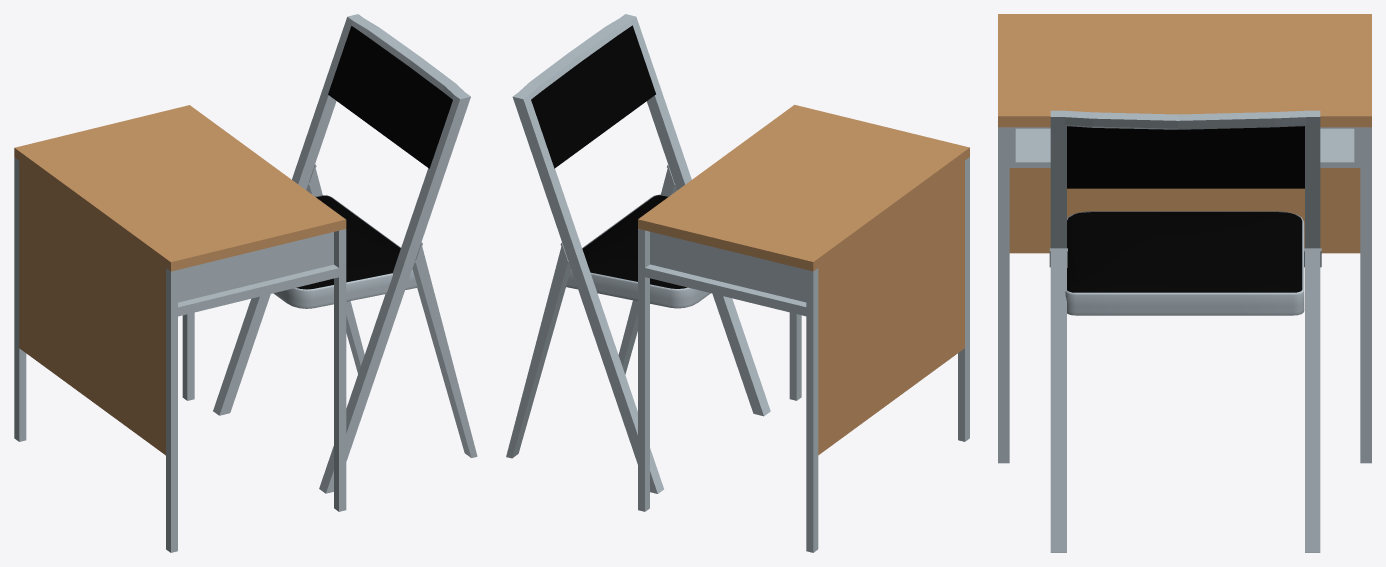
File: batch1.fbx
3 views of the same model, side by side, from view 1: azimuth 30°, elevation 25°; view 2: azimuth 150°, elevation 25°; view 3: azimuth 270°, elevation 25° (orthographic). The views are drawn at different scales.
Parts seen in each view (by area): view 1: Cube; view 2: Cube; view 3: Cube.
Boxes of the visible parts, <box> form: Cube: <box>14,14,477,552</box>; Cube: <box>506,14,969,552</box>; Cube: <box>998,14,1371,552</box>.
Bounding box in the file's own units: 102 × 107 × 84.
